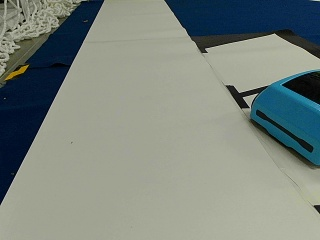car: (249, 67, 318, 164)
